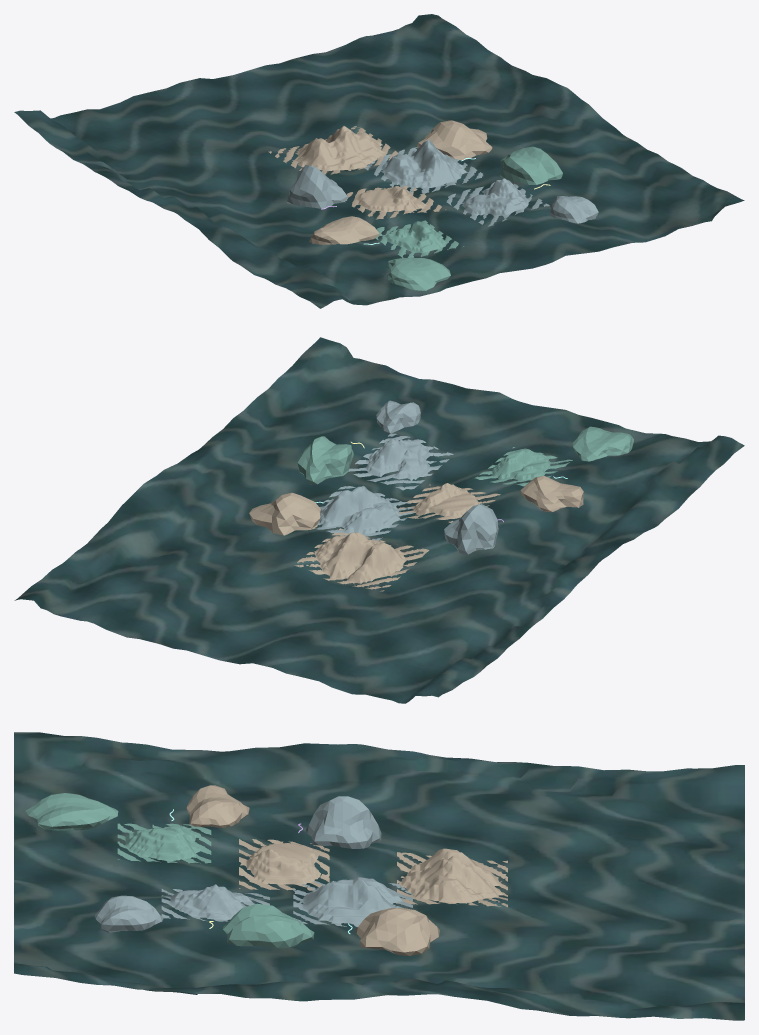
Rendered from life-map-memory-sanctuary-v210.glb.
3 renders of one model, top to bottom at view 1: azimuth 30°, elevation 25°; view 2: azimuth 150°, elevation 25°; view 3: azimuth 270°, elevation 25°, orthographic. The views are drawn at different scales.
Visible parts, largest first — view 1: life-map-v210-continuous-eroded-memory-sanctuary, life-map-v210-integrated-geologic-landmark-1; view 2: life-map-v210-continuous-eroded-memory-sanctuary, life-map-v210-integrated-geologic-landmark-1; view 3: life-map-v210-continuous-eroded-memory-sanctuary, life-map-v210-integrated-geologic-landmark-1.
Boxes of the visible parts, left/top/right/bottom form: life-map-v210-continuous-eroded-memory-sanctuary: left=14, top=14, right=744, bottom=308; life-map-v210-integrated-geologic-landmark-1: left=268, top=120, right=598, bottom=290; life-map-v210-continuous-eroded-memory-sanctuary: left=14, top=337, right=744, bottom=703; life-map-v210-integrated-geologic-landmark-1: left=249, top=400, right=633, bottom=591; life-map-v210-continuous-eroded-memory-sanctuary: left=14, top=732, right=744, bottom=1020; life-map-v210-integrated-geologic-landmark-1: left=25, top=785, right=507, bottom=955.
Bounding box in the file's own units: 40 × 5.96 × 50.
Materials: 5 (5 with a texture image).
